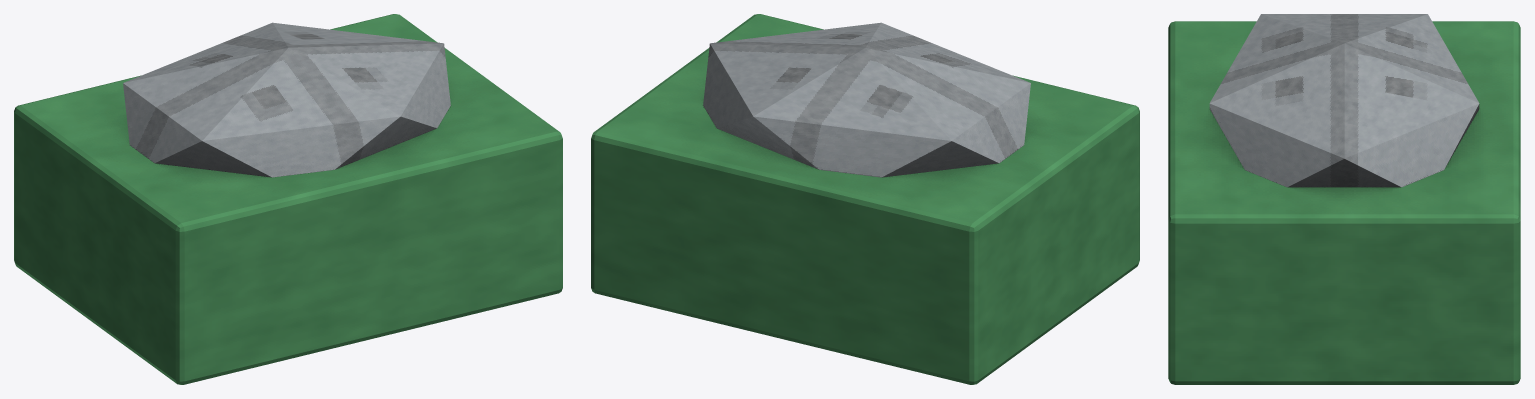
The model's file is base_cell_material.glb.
3 renders of one model, left to right at view 1: azimuth 30°, elevation 25°; view 2: azimuth 150°, elevation 25°; view 3: azimuth 270°, elevation 25°, orthographic. The views are drawn at different scales.
Parts seen in each view (by area): view 1: base_cell_material; view 2: base_cell_material; view 3: base_cell_material.
Part boxes in pixels (box(x1,y1,x2,y2)): base_cell_material: box(14, 14, 562, 384); base_cell_material: box(591, 14, 1139, 384); base_cell_material: box(1168, 14, 1520, 384).
Size of the model in its own units: 0.8 by 0.46 by 0.6.
2 materials, 2 textured.
